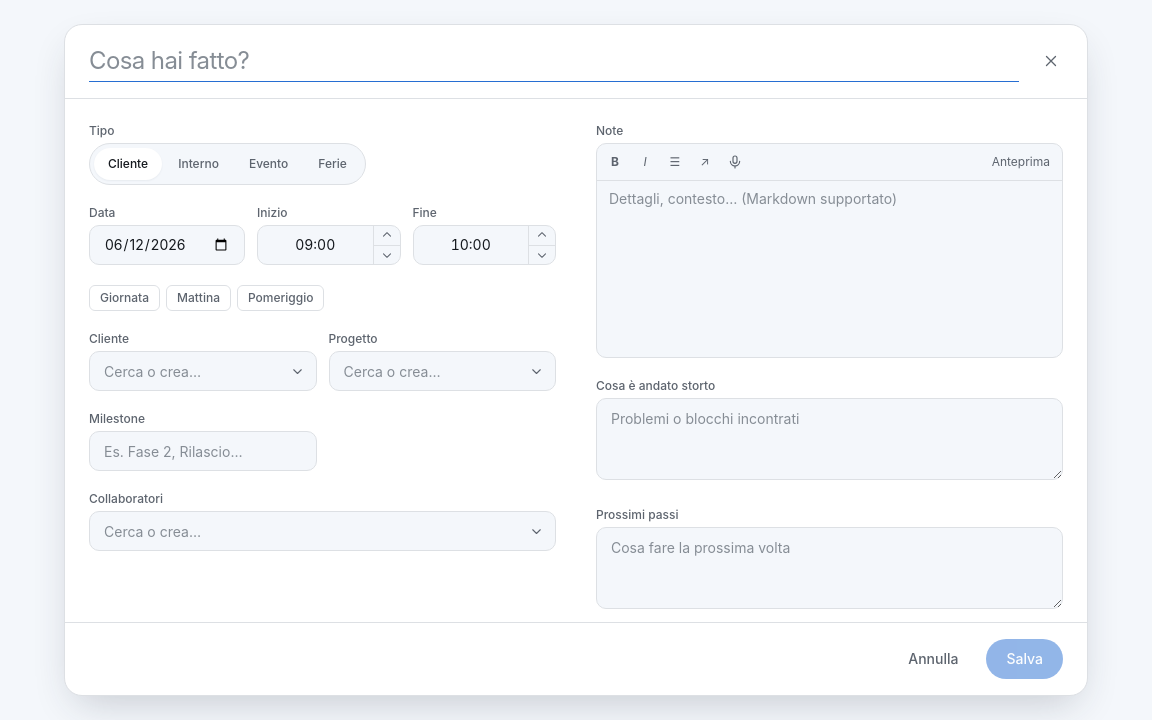
EntryEditor › blocca il salvataggio se l'orario si sovrappone a un'altra attività
The width and height of the screenshot is (1152, 720).
In the field named "Titolo": (554, 64) [89,45,1019,82], type "Nuova"
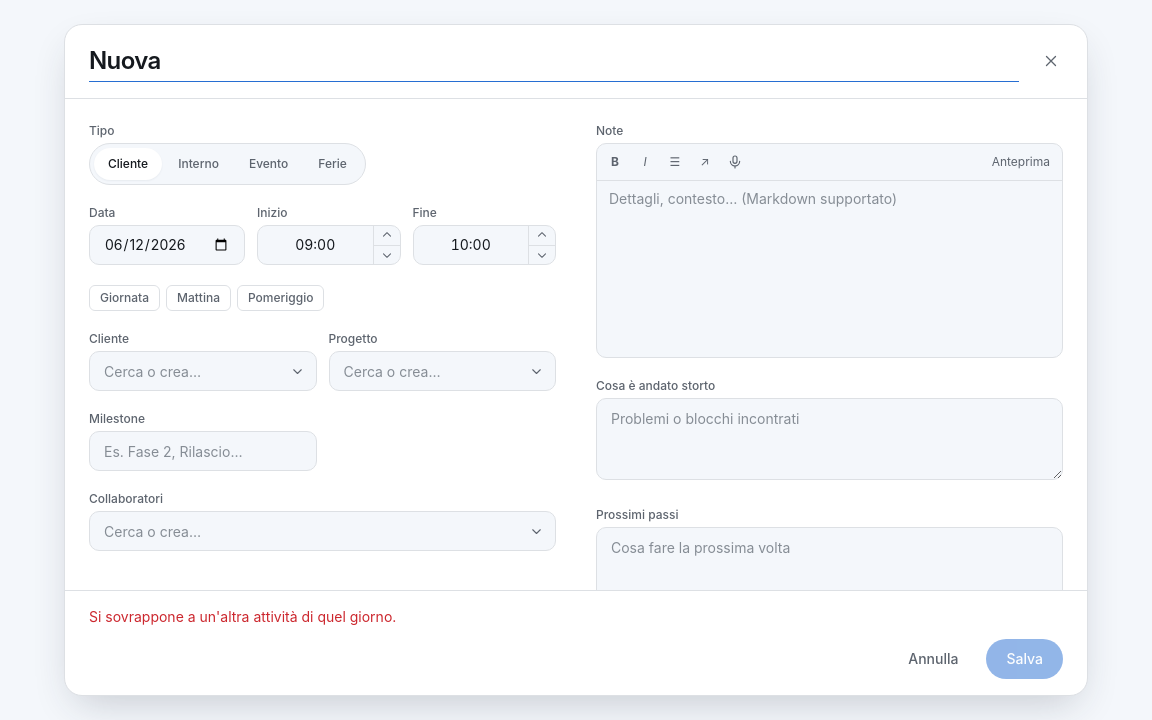
Expected: the button "Salva" is disabled, [986,639,1063,679]
Now the message shows "sovrappone", box [89,608,396,625]
